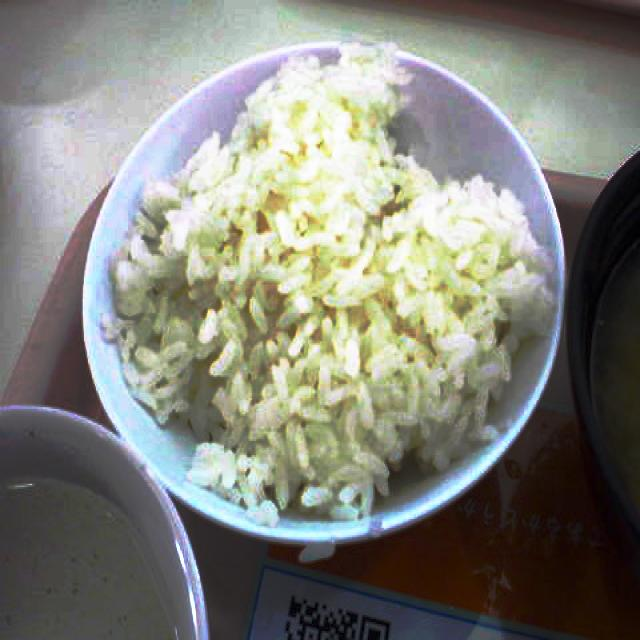rice: (99, 34, 550, 517)
